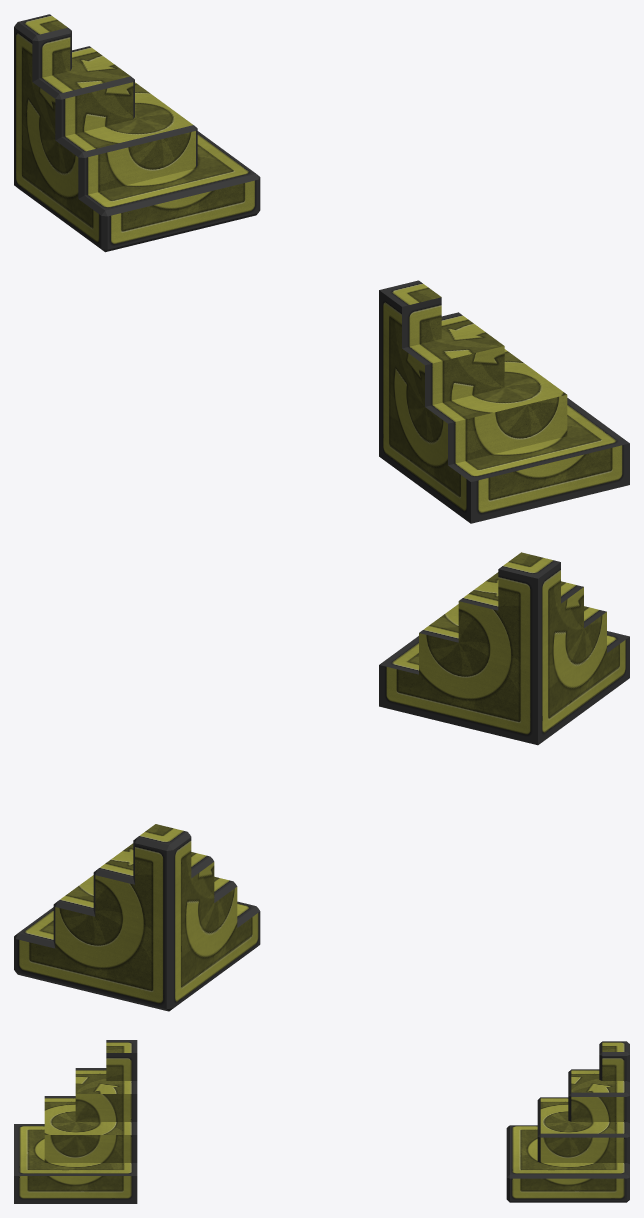
The model's file is step4.outsideCorner.fbx.
The picture shows the model from 3 angles, top to bottom: view 1: azimuth 30°, elevation 25°; view 2: azimuth 150°, elevation 25°; view 3: azimuth 270°, elevation 25°; orthographic projection. The views are drawn at different scales.
Visible parts, largest first — view 1: MESH step4.outsideCorner, MESH step4.outsideCorner.c; view 2: MESH step4.outsideCorner, MESH step4.outsideCorner.c; view 3: MESH step4.outsideCorner, MESH step4.outsideCorner.c.
Boxes of the visible parts, x1,y1,x2,y2 form: MESH step4.outsideCorner: (379,280,629,523); MESH step4.outsideCorner.c: (14,14,260,252); MESH step4.outsideCorner: (379,552,629,745); MESH step4.outsideCorner.c: (14,824,260,1011); MESH step4.outsideCorner: (14,1040,137,1203); MESH step4.outsideCorner.c: (506,1041,629,1202).
Size of what is drawn, in the model's own units: 100 by 100 by 500.
